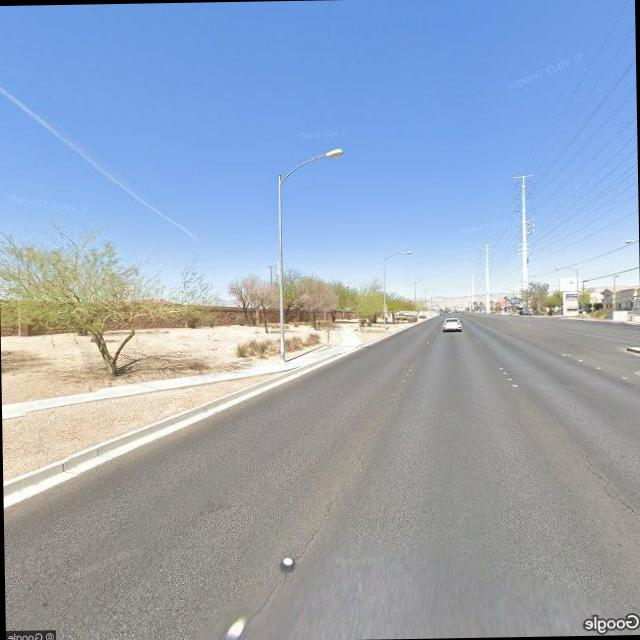pothole: (574, 441, 640, 602)
